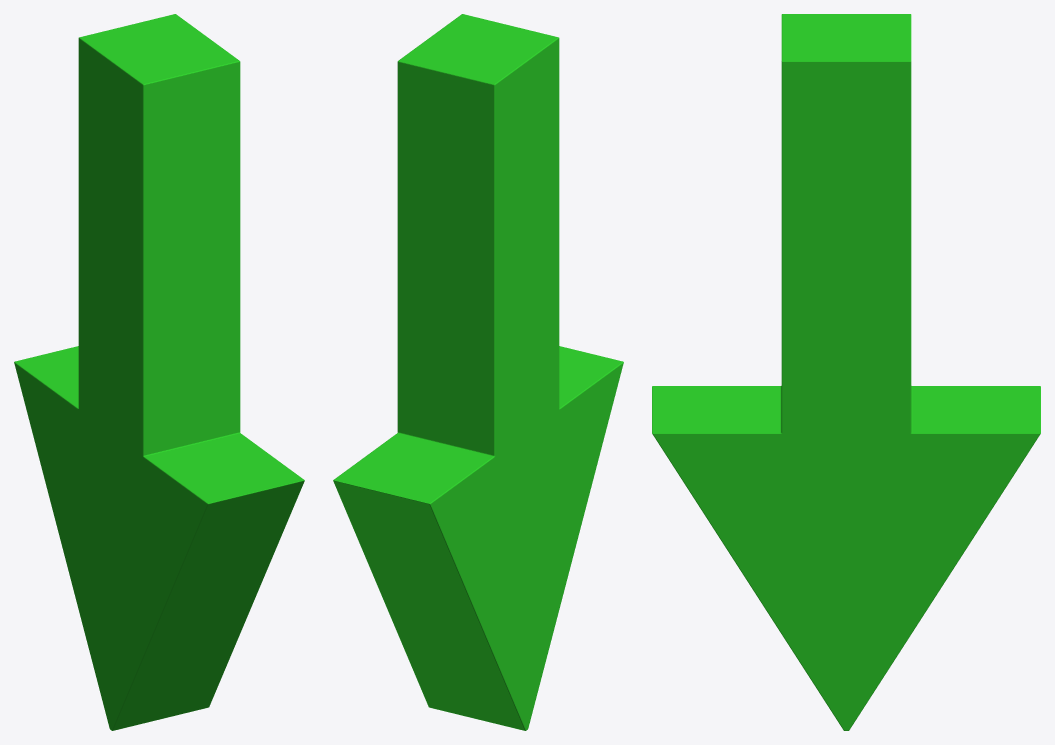
File: tutorial_arrow.fbx
3 views of the same model, side by side, from view 1: azimuth 30°, elevation 25°; view 2: azimuth 150°, elevation 25°; view 3: azimuth 270°, elevation 25° (orthographic).
Parts seen in each view (by area): view 1: tutorial_arrow; view 2: tutorial_arrow; view 3: tutorial_arrow.
Boxes of the visible parts, x1=… form: tutorial_arrow: x1=14, y1=14, x2=304, y2=730; tutorial_arrow: x1=333, y1=14, x2=623, y2=730; tutorial_arrow: x1=652, y1=14, x2=1040, y2=730.
Size of the model in its own units: 17.14 by 113 by 59.22.
Materials: 1 (1 with a texture image).
